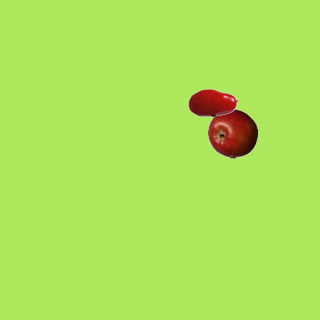Apple Braeburn: (207, 108, 257, 158)
Tomato 2: (187, 77, 237, 127)
